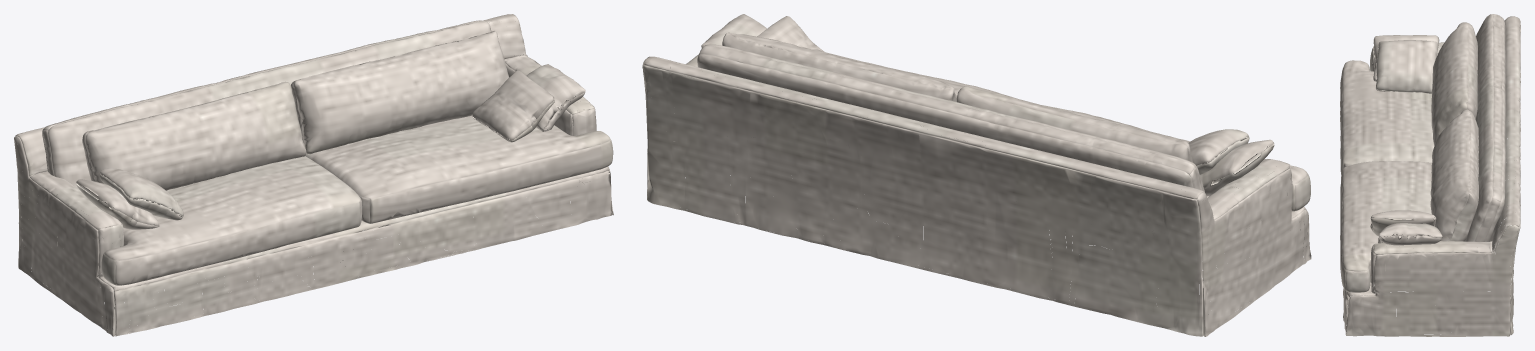
The model's file is sofa_3230.glb.
The picture shows the model from 3 angles, left to right: view 1: azimuth 30°, elevation 25°; view 2: azimuth 150°, elevation 25°; view 3: azimuth 270°, elevation 25°; orthographic projection. The views are drawn at different scales.
Visible parts, largest first — view 1: Sofa_3230_8, Seat_pillow_6, Back_decor_pillow_rec.000_0, Back_decor_pillow_rec.004_1, Back_pillow.001_3, Plane.000_5, Back_decor_pillow_sq.000_2; view 2: Sofa_3230_8, Back_pillow.001_3, Back_decor_pillow_rec.004_1, Back_decor_pillow_rec.000_0, Plane.000_5, Back_decor_pillow_sq.000_2, Seat_pillow_6; view 3: Sofa_3230_8, Seat_pillow_6, Back_pillow.001_3, Back_decor_pillow_rec.000_0, Back_decor_pillow_rec.004_1, Back_decor_pillow_sq.000_2, Plane.000_5.
Boxes of the visible parts, bbox=[...] form: Sofa_3230_8: bbox=[14, 14, 613, 336]; Seat_pillow_6: bbox=[101, 115, 613, 285]; Back_decor_pillow_rec.000_0: bbox=[291, 30, 509, 154]; Back_decor_pillow_rec.004_1: bbox=[82, 81, 306, 190]; Back_pillow.001_3: bbox=[42, 20, 491, 195]; Plane.000_5: bbox=[76, 64, 585, 229]; Back_decor_pillow_sq.000_2: bbox=[99, 168, 183, 220]; Sofa_3230_8: bbox=[642, 54, 1311, 336]; Back_pillow.001_3: bbox=[697, 44, 1204, 209]; Back_decor_pillow_rec.004_1: bbox=[956, 86, 1192, 162]; Back_decor_pillow_rec.000_0: bbox=[722, 32, 956, 101]; Plane.000_5: bbox=[701, 14, 1274, 196]; Back_decor_pillow_sq.000_2: bbox=[1188, 129, 1249, 174]; Seat_pillow_6: bbox=[826, 52, 1310, 211]; Sofa_3230_8: bbox=[1343, 16, 1520, 336]; Seat_pillow_6: bbox=[1340, 60, 1434, 292]; Back_pillow.001_3: bbox=[1464, 14, 1505, 241]; Back_decor_pillow_rec.000_0: bbox=[1430, 109, 1478, 241]; Back_decor_pillow_rec.004_1: bbox=[1431, 22, 1477, 145]; Back_decor_pillow_sq.000_2: bbox=[1375, 40, 1438, 93]; Plane.000_5: bbox=[1370, 35, 1442, 245].
Bounding box in the file's own units: 3.23 × 0.916 × 1.17.
Materials: 2 (1 with a texture image).
